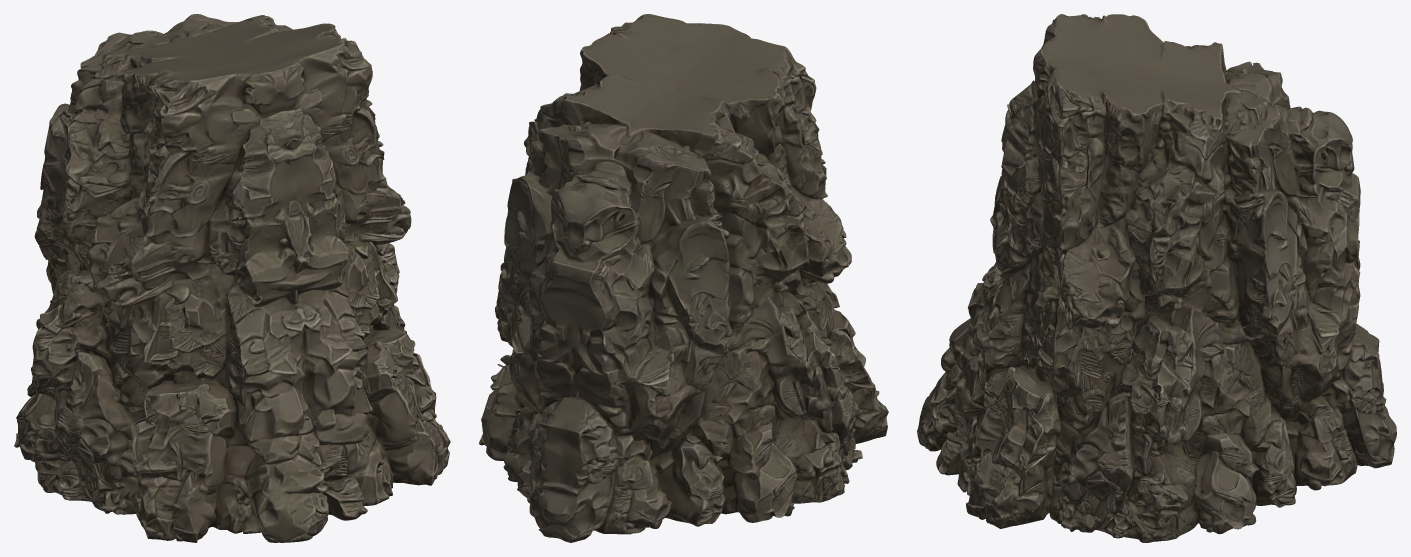
Rendered from cliff-face.glb.
The picture shows the model from 3 angles, left to right: view 1: azimuth 30°, elevation 25°; view 2: azimuth 150°, elevation 25°; view 3: azimuth 270°, elevation 25°; orthographic projection. The views are drawn at different scales.
Visible parts, largest first — view 1: tripo_node_adc96699-4989-4cbd-ba71-81f43a968207; view 2: tripo_node_adc96699-4989-4cbd-ba71-81f43a968207; view 3: tripo_node_adc96699-4989-4cbd-ba71-81f43a968207.
Part boxes in pixels (<box>): tripo_node_adc96699-4989-4cbd-ba71-81f43a968207: <box>14,14,450,542</box>; tripo_node_adc96699-4989-4cbd-ba71-81f43a968207: <box>479,14,888,542</box>; tripo_node_adc96699-4989-4cbd-ba71-81f43a968207: <box>917,14,1396,542</box>.
Bounding box in the file's own units: 0.8421 × 0.9202 × 0.9784.
Materials: 1 (1 with a texture image).
